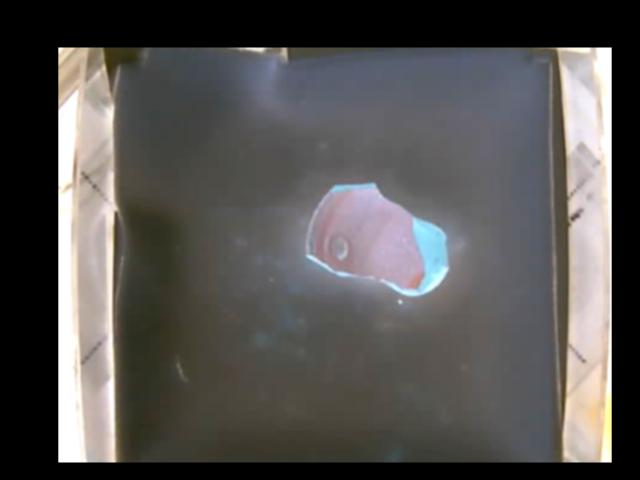China: (303, 182, 446, 295)
